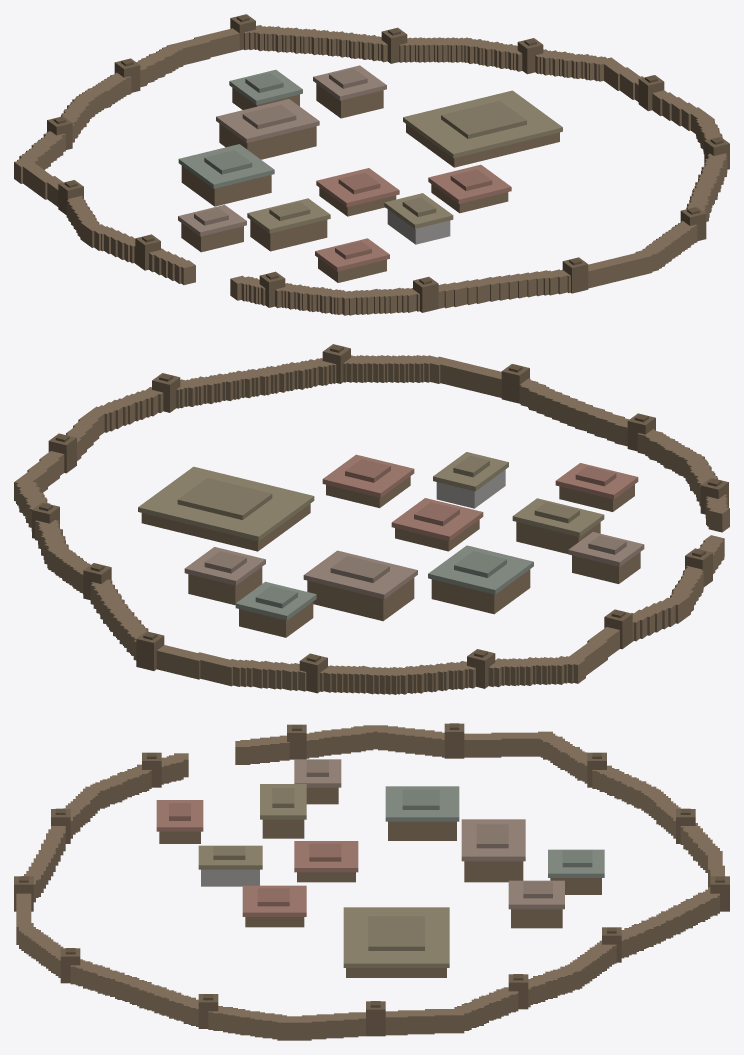
File: ciudad_poblado_orco_poi_2666_826_01.glb
3 renders of one model, top to bottom at view 1: azimuth 30°, elevation 25°; view 2: azimuth 150°, elevation 25°; view 3: azimuth 270°, elevation 25°, orthographic. The views are drawn at different scales.
Parts seen in each view (by area): view 1: ciudad_poblado_orco_poi_2666_826; view 2: ciudad_poblado_orco_poi_2666_826; view 3: ciudad_poblado_orco_poi_2666_826.
Part boxes in pixels (bbox=[...]): ciudad_poblado_orco_poi_2666_826: bbox=[14, 14, 729, 315]; ciudad_poblado_orco_poi_2666_826: bbox=[14, 344, 729, 694]; ciudad_poblado_orco_poi_2666_826: bbox=[14, 723, 729, 1040].
Size of the model in its own units: 71.5 by 3.5 by 72.75.
